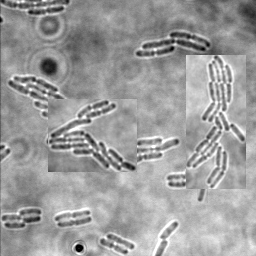Dividing: (99, 238, 128, 255), (54, 209, 90, 222), (188, 128, 201, 162), (56, 217, 92, 228), (197, 167, 208, 203), (27, 7, 64, 17), (167, 175, 185, 189)
Microcolony: (186, 55, 246, 189), (48, 99, 137, 172), (7, 76, 98, 147), (135, 32, 211, 57), (137, 137, 180, 168), (1, 208, 42, 229)
Rod: (106, 233, 135, 251), (157, 222, 178, 240), (166, 174, 185, 183)
